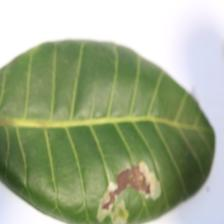leaf miner: (0, 37, 216, 224), (99, 160, 161, 211)
